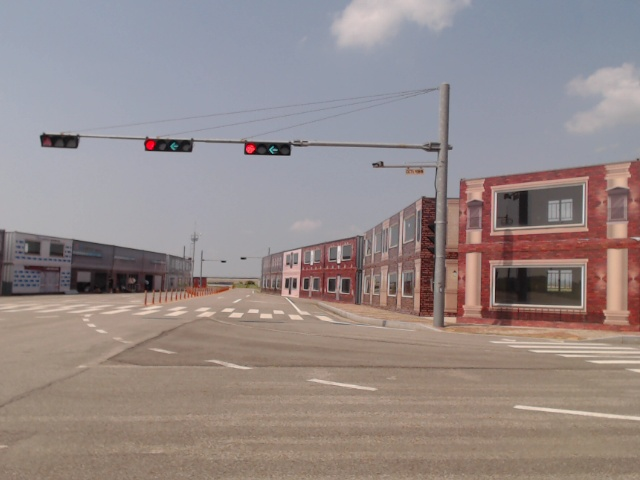left_green_4: (145, 138, 191, 152), (245, 143, 289, 155)
